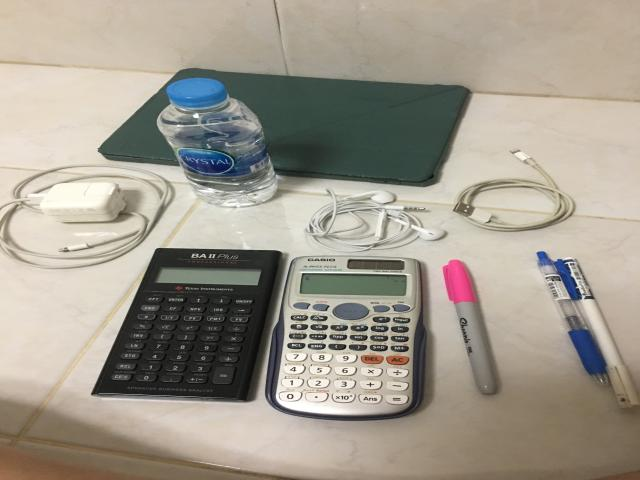Pen: (537, 251, 638, 408), (443, 260, 497, 394)
bottle: (157, 78, 277, 207)
wire: (0, 164, 173, 269), (453, 149, 575, 232), (305, 188, 445, 252)
